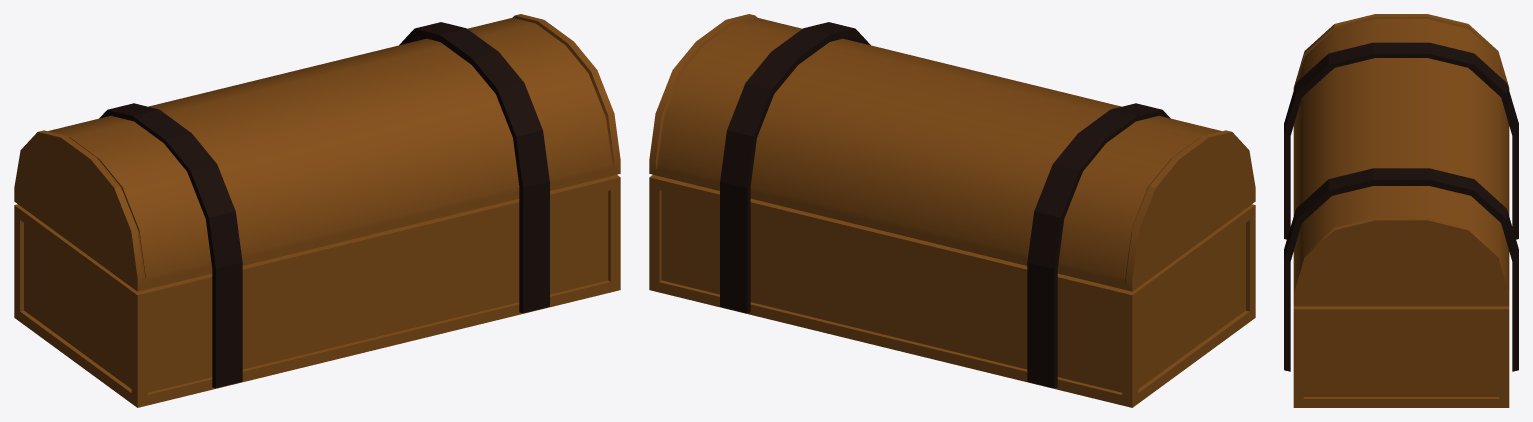
Rendered from SM_CHEST_02_Medium.fbx.
The picture shows the model from 3 angles, left to right: view 1: azimuth 30°, elevation 25°; view 2: azimuth 150°, elevation 25°; view 3: azimuth 270°, elevation 25°; orthographic projection. The views are drawn at different scales.
Visible parts, largest first — view 1: chest.002; view 2: chest.002; view 3: chest.002.
Boxes of the visible parts, left/top/right/bottom form: chest.002: left=14, top=14, right=620, bottom=407; chest.002: left=649, top=14, right=1255, bottom=407; chest.002: left=1284, top=14, right=1518, bottom=407.
Bounding box in the file's own units: 36.41 × 16.09 × 17.5.
